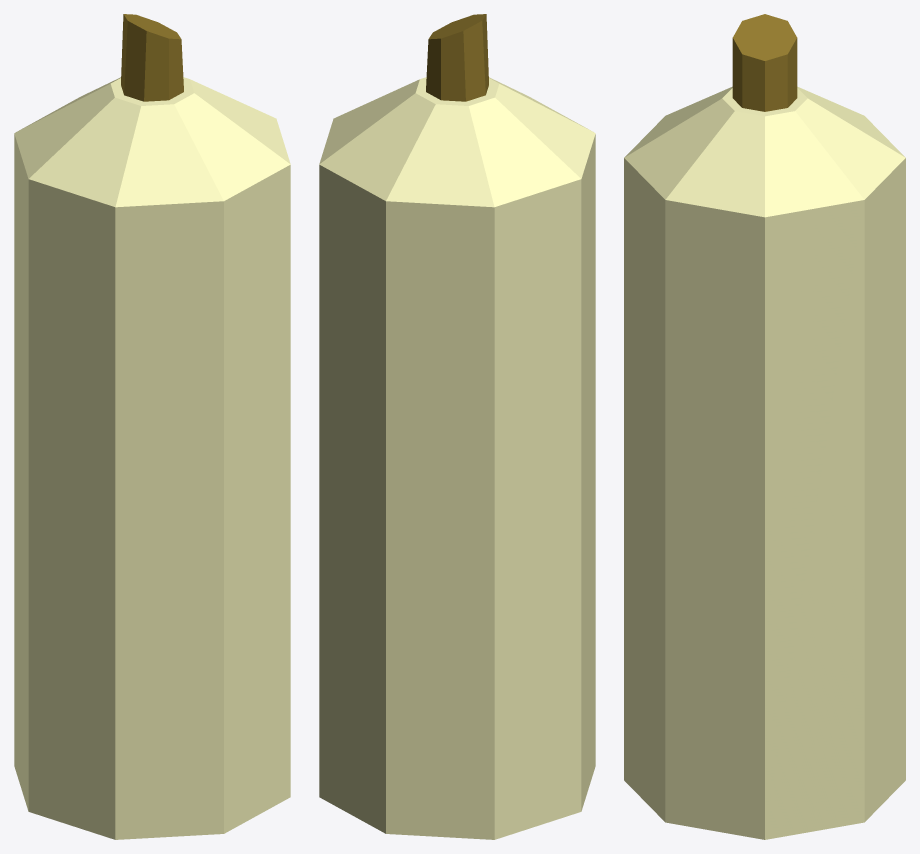
File: Candle.fbx
3 views of the same model, side by side, from view 1: azimuth 30°, elevation 25°; view 2: azimuth 150°, elevation 25°; view 3: azimuth 270°, elevation 25° (orthographic).
Parts seen in each view (by area): view 1: Candle; view 2: Candle; view 3: Candle.
Boxes of the visible parts, left/top/right/bottom form: Candle: left=14, top=14, right=290, bottom=839; Candle: left=319, top=14, right=595, bottom=839; Candle: left=624, top=14, right=905, bottom=839.
Bounding box in the file's own units: 43.6 × 129 × 43.6.
